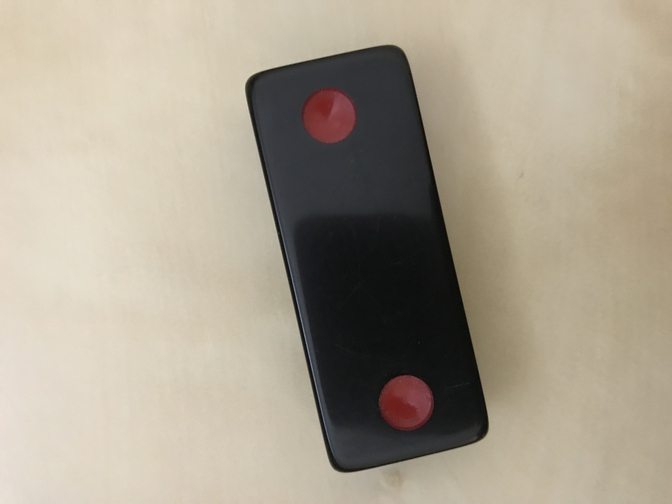earth: (244, 45, 490, 473)
